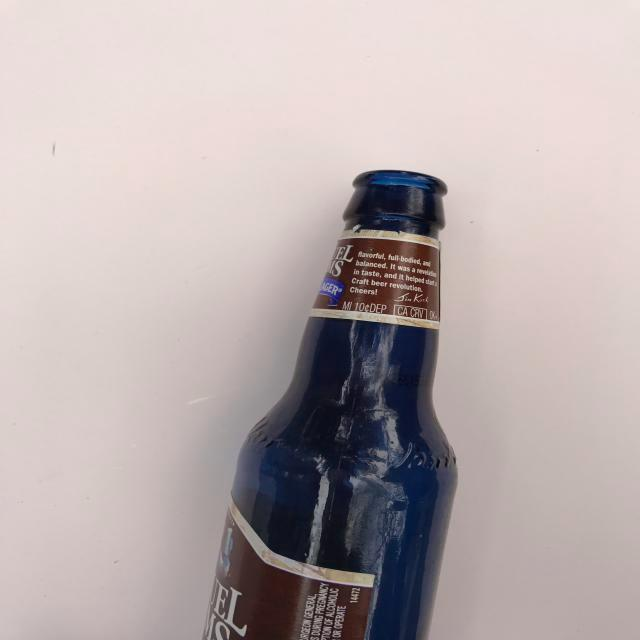glass: (194, 156, 473, 640)
